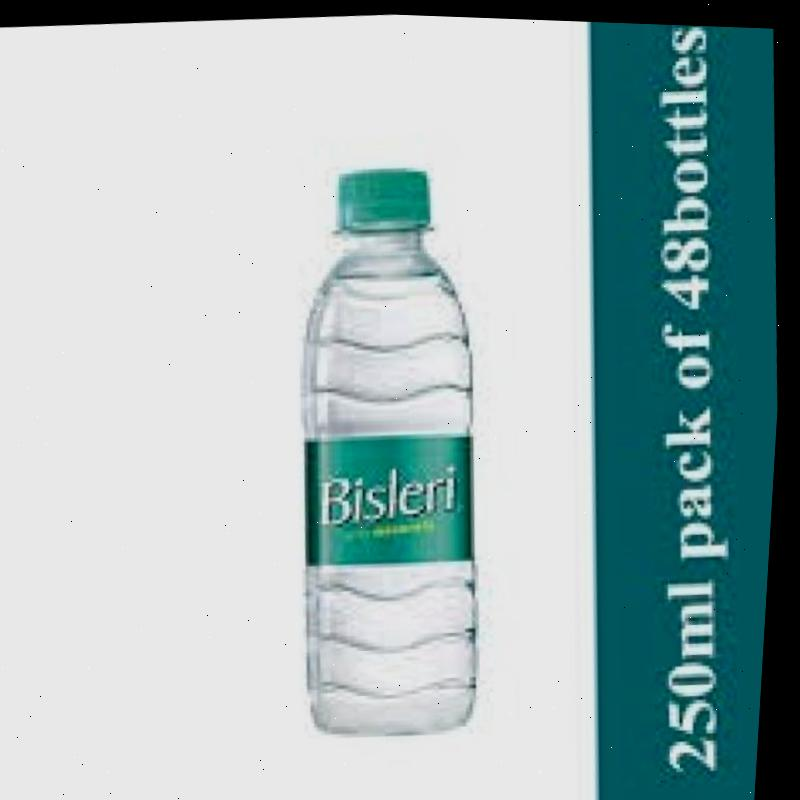botella: (272, 158, 513, 743)
